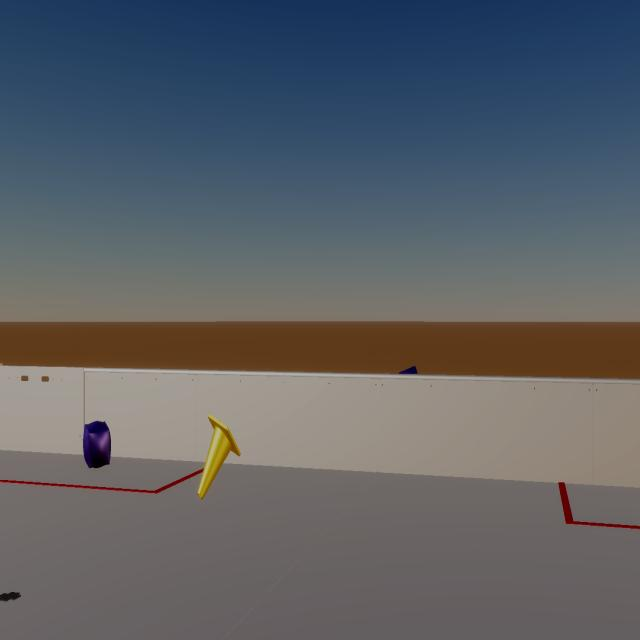frc_cone: (197, 414, 241, 499)
frc_cube: (83, 421, 111, 468), (398, 366, 418, 375)
